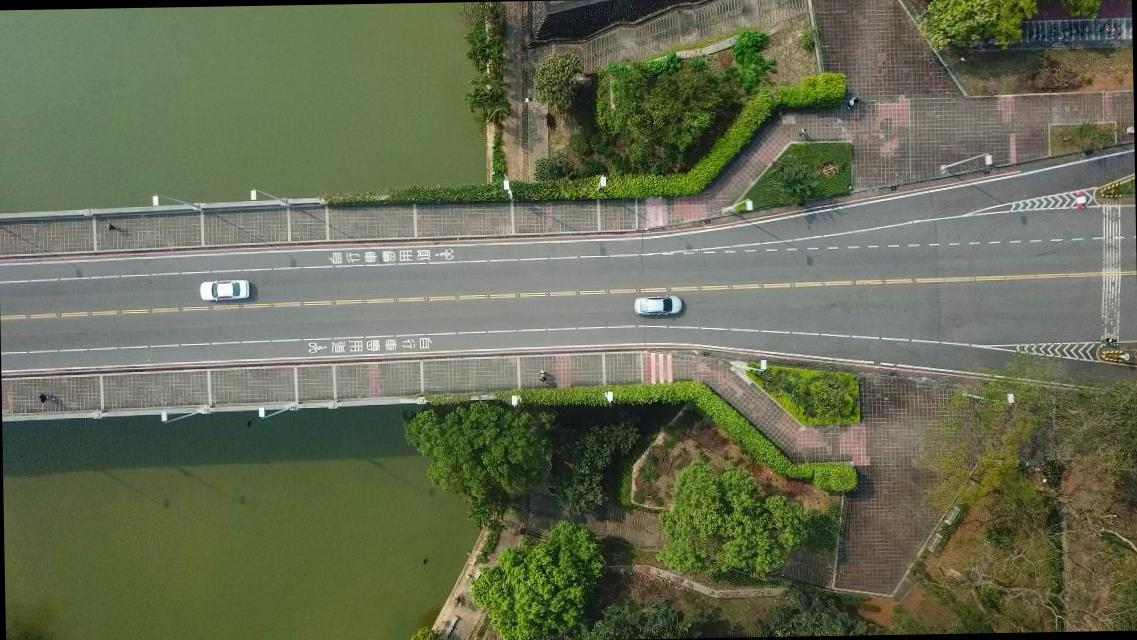vehicle: (635, 294, 683, 317), (200, 280, 250, 302)
